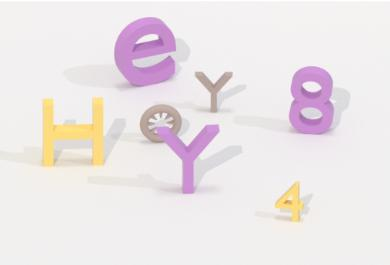0-TronLo: (134, 99, 185, 147)
4: (271, 177, 309, 226)
8: (286, 64, 336, 138)
H: (39, 93, 107, 172)
Y: (158, 123, 223, 198), (190, 65, 239, 118)
e: (111, 14, 179, 89)
